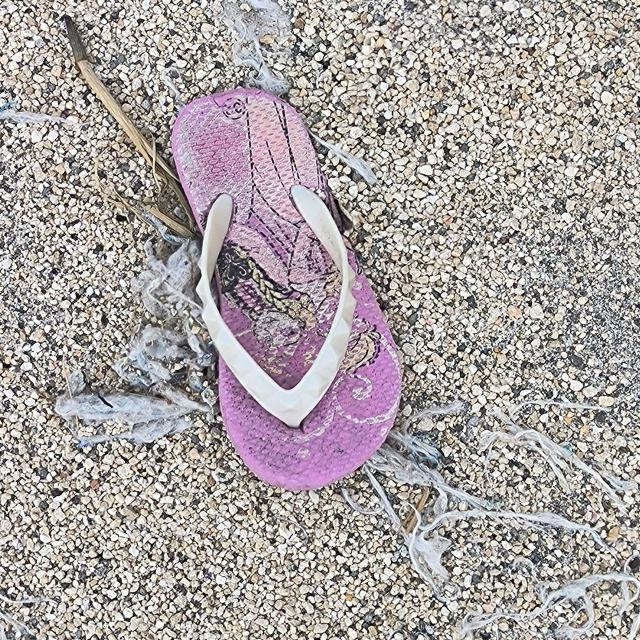rubber_waste: (171, 89, 407, 494)
